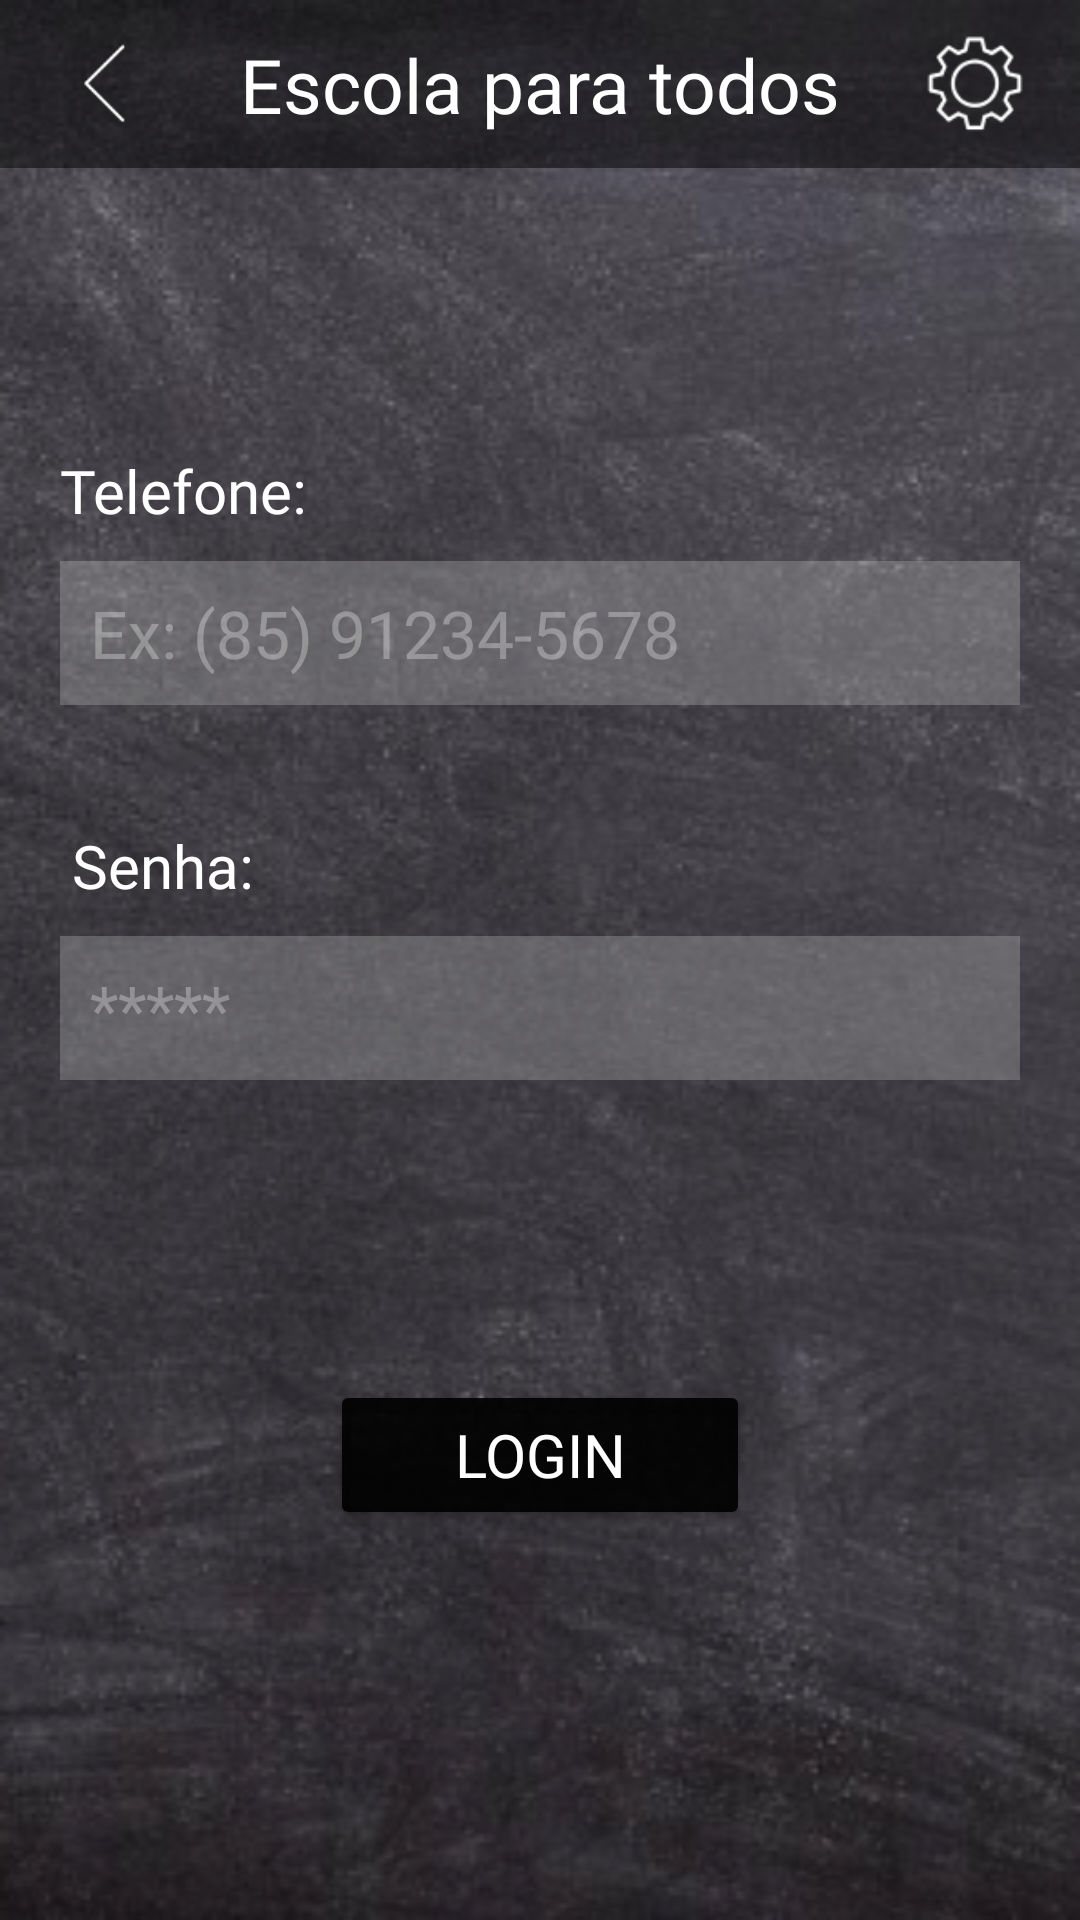

Where icons sit on this 1080px x 1920px app screen, as (x1, y1, x2, y2):
config: (927, 36, 1023, 130)
voltar: (84, 44, 125, 122)
